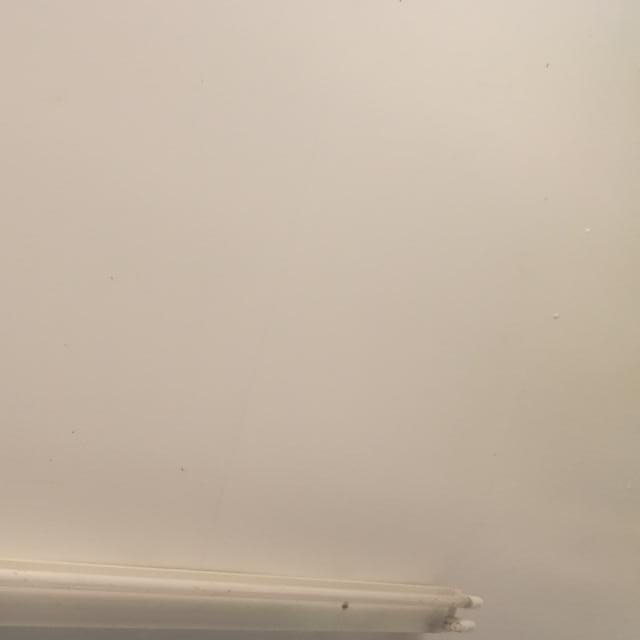fluorescent tube: (0, 515, 491, 640)
